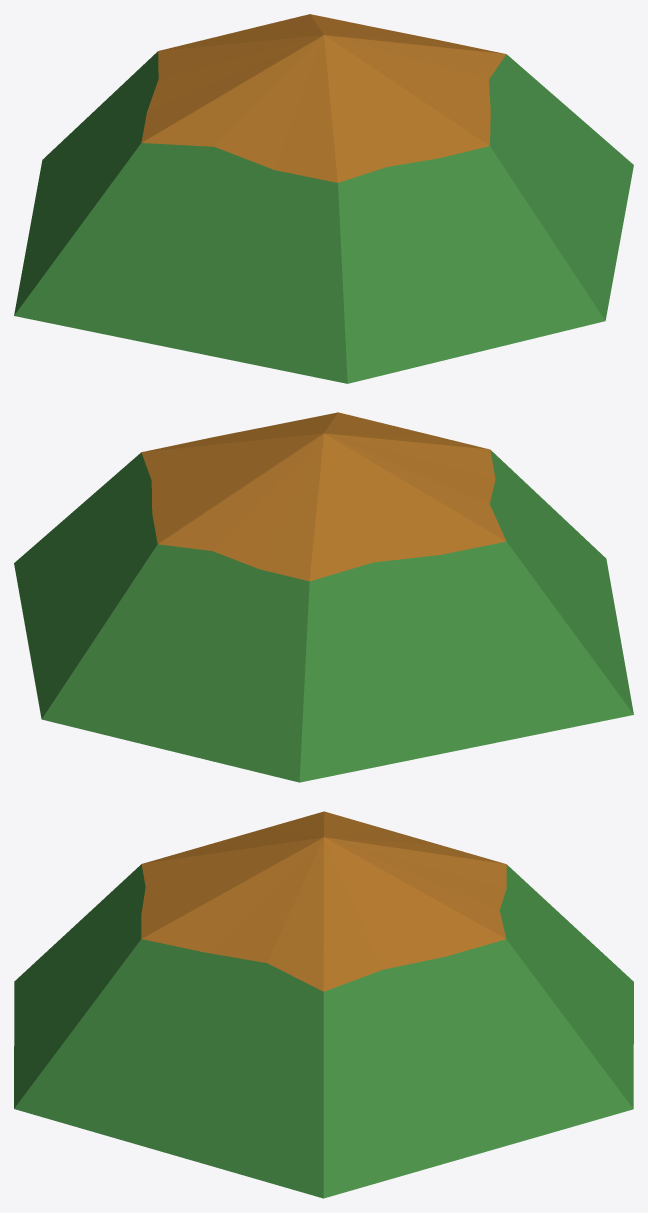
File: Hill.glb
The picture shows the model from 3 angles, top to bottom: view 1: azimuth 30°, elevation 25°; view 2: azimuth 150°, elevation 25°; view 3: azimuth 270°, elevation 25°; orthographic projection.
Visible parts, largest first — view 1: Plane.007; view 2: Plane.007; view 3: Plane.007.
Part boxes in pixels (x1,y1,x2,y2): Plane.007: [14, 14, 633, 383]; Plane.007: [14, 412, 633, 782]; Plane.007: [14, 811, 633, 1198].
Bounding box in the file's own units: 69.5 × 22.03 × 59.46.
